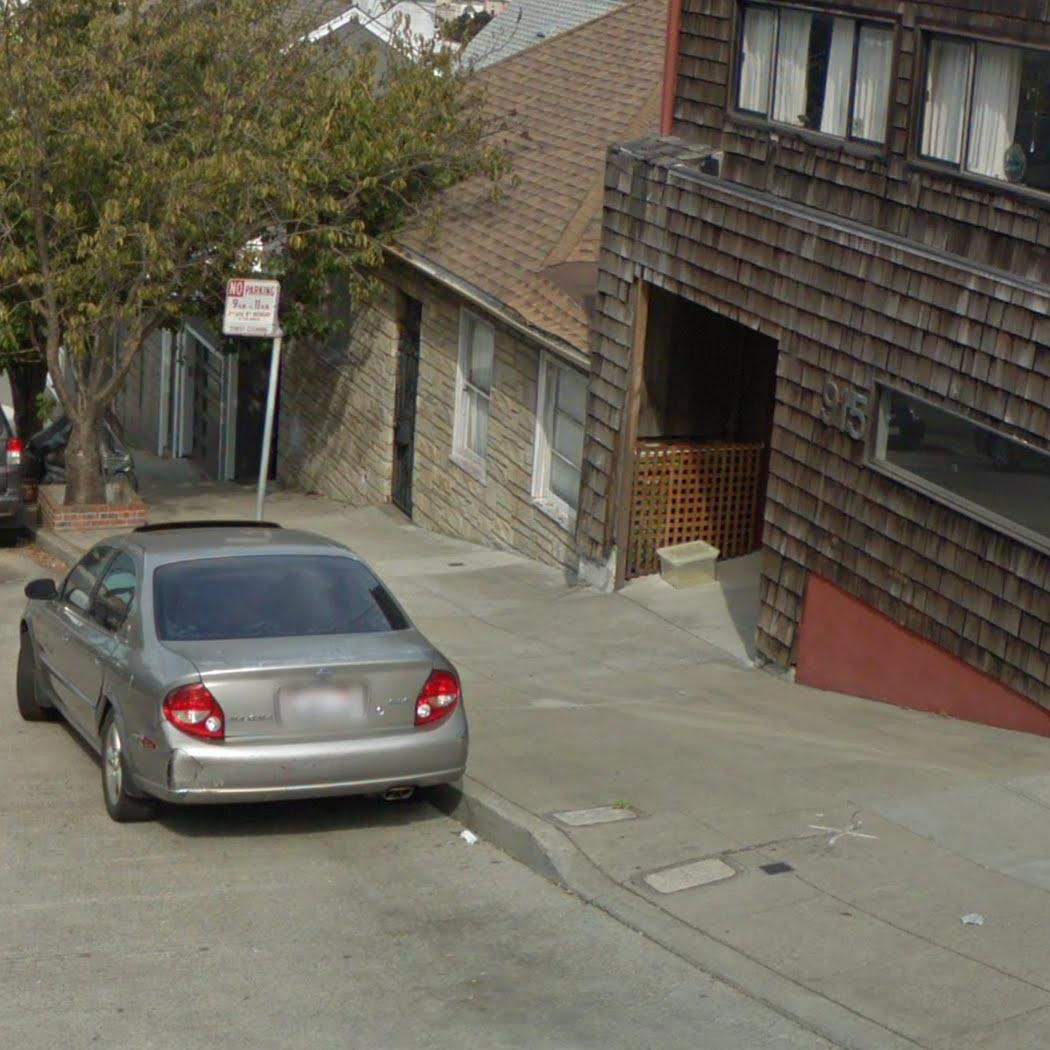No Parking: (218, 271, 284, 341)
